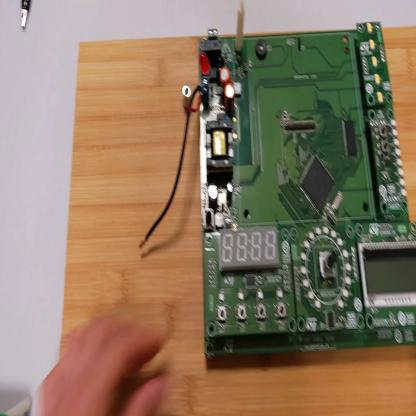hand: (35, 318, 170, 416)
low voltage board: (137, 2, 416, 357)
working area: (57, 23, 416, 416)
